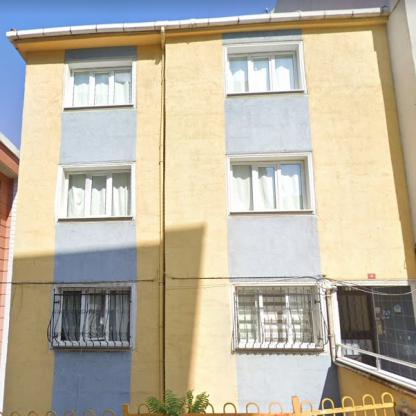door: (336, 289, 377, 353)
window: (240, 286, 315, 346), (230, 159, 306, 207), (57, 292, 129, 342), (64, 170, 129, 215), (226, 52, 297, 92), (67, 68, 133, 105)
